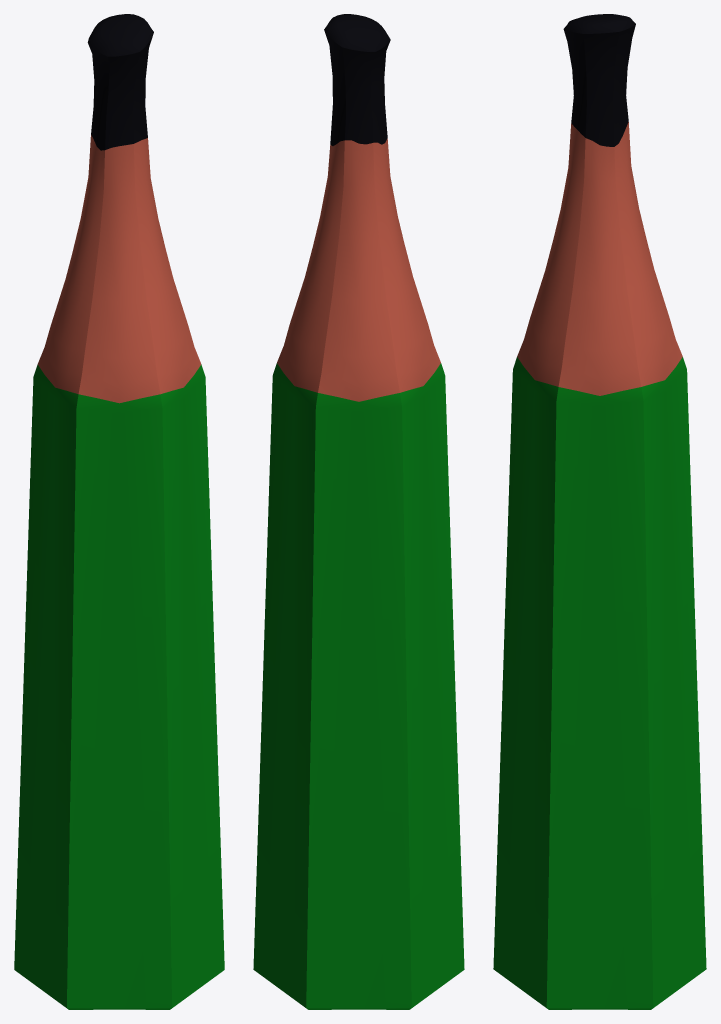
File: Pencil_Small.FBX
The picture shows the model from 3 angles, left to right: view 1: azimuth 30°, elevation 25°; view 2: azimuth 150°, elevation 25°; view 3: azimuth 270°, elevation 25°; orthographic projection.
Parts seen in each view (by area): view 1: Cylinder007; view 2: Cylinder007; view 3: Cylinder007.
Boxes of the visible parts, <box> form: Cylinder007: <box>14,14,224,1009</box>; Cylinder007: <box>253,14,464,1009</box>; Cylinder007: <box>493,14,706,1009</box>.
Size of the model in its own units: 31.14 by 179 by 35.95.
